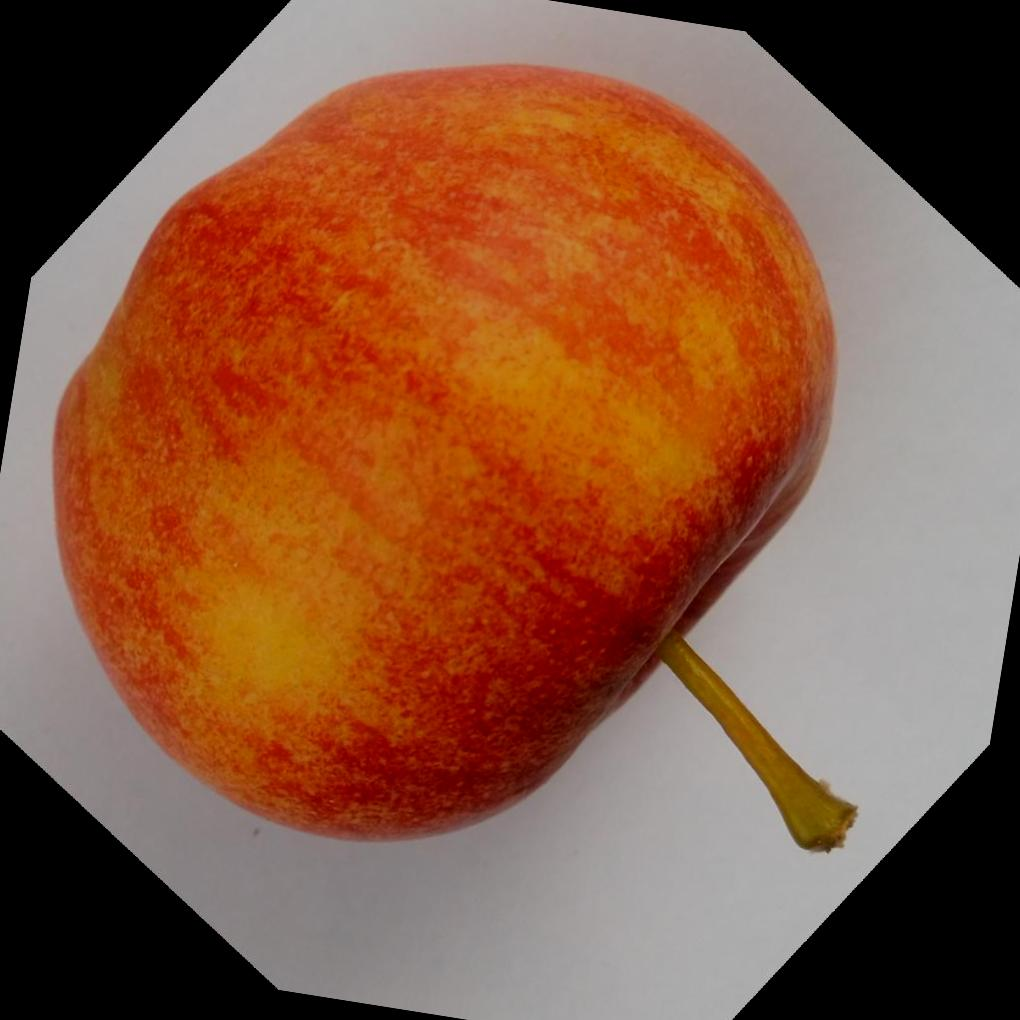FreshGuava: (47, 64, 837, 844)
